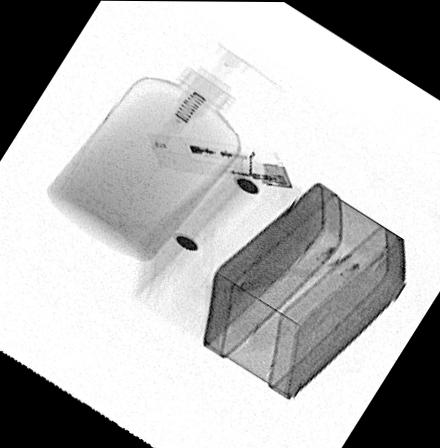Lighter: (147, 133, 292, 189)
